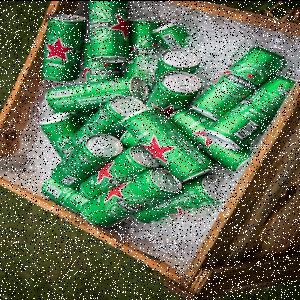Can: (122, 107, 218, 183), (192, 46, 287, 121), (206, 75, 299, 151), (80, 167, 184, 228), (53, 134, 125, 188), (45, 77, 149, 114), (41, 14, 89, 84), (90, 2, 131, 64), (151, 70, 203, 114), (155, 47, 203, 79)
